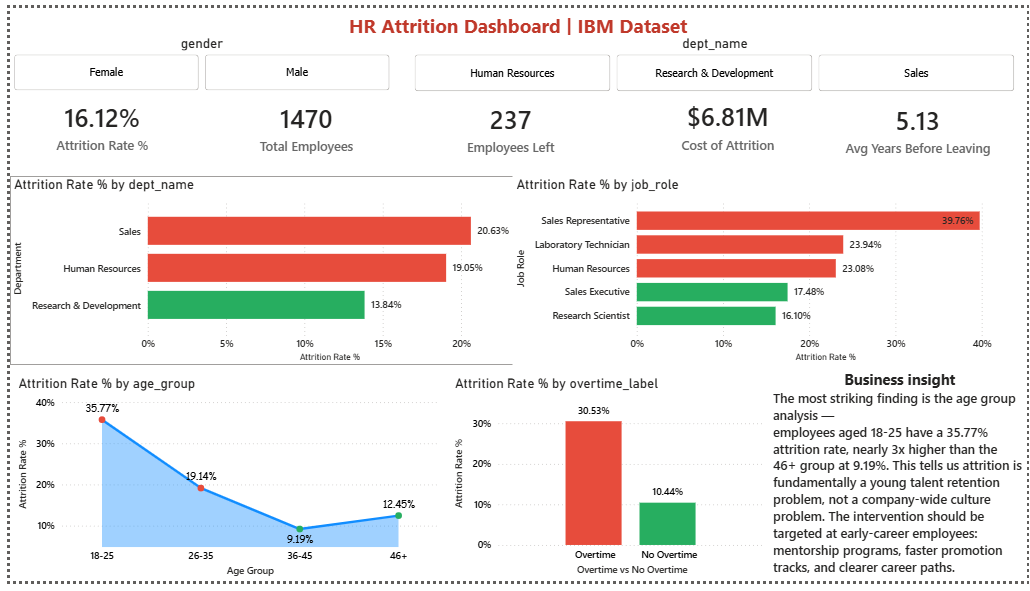

Layout of this report page (visuals, bound fields, positions):
{"tool":"powerbi","page":{"name":"Executive Overview","canvas":[1280,720],"ordinal":0},"visuals":[{"type":"textbox","box":[9.7,0,1259.8,50],"z":0},{"type":"card","fields":{"Values":["_Measures.Attrition Rate %"]},"box":[4.9,106.9,220.2,81],"z":1000},{"type":"card","fields":{"Values":["_Measures.Total Employees"]},"box":[262.3,110.1,220.2,79.3],"z":2000},{"type":"card","fields":{"Values":["_Measures.Employees Left"]},"box":[519.2,111.5,221.2,78.8],"z":3000},{"type":"card","fields":{"Values":["_Measures.Cost of Attrition"]},"box":[791.8,108.5,220.2,79.3],"z":4000},{"type":"card","fields":{"Values":["_Measures.Avg Tenure at Exit"]},"box":[1032.7,111.5,219.2,80.8],"z":5000},{"type":"clusteredBarChart","fields":{"Category":["dim_department.dept_name"],"Y":["_Measures.Attrition Rate %"]},"box":[0,210.5,647.7,238],"z":6000},{"type":"clusteredBarChart","fields":{"Y":["_Measures.Attrition Rate %"],"Category":["employees.job_role"]},"box":[631.5,210.5,647.7,238],"z":7000},{"type":"areaChart","fields":{"Category":["employees.age_group"],"Y":["_Measures.Attrition Rate %"]},"box":[4.9,463.1,537.6,257.5],"z":8000},{"type":"columnChart","fields":{"Category":["employees.overtime_label"],"Y":["_Measures.Attrition Rate %"]},"box":[555.4,463.1,399.9,255.8],"z":9000},{"type":"textbox","box":[955.3,448.5,323.8,272],"z":10000},{"type":"advancedSlicerVisual","fields":{"Values":["employees.gender"]},"box":[0,34,482.5,74.5],"z":11000},{"type":"advancedSlicerVisual","fields":{"Values":["dim_department.dept_name"]},"box":[503.6,34,765.9,76.1],"z":12000}]}

Visuals, with their boxes in screenshot pixels (x1, y1, x2, y2), scaled from the page's 1280x720 canvas onto the 1030x591 screenshot:
textbox: <region>8, 0, 1022, 41</region>
card - _Measures.Attrition Rate %: <region>4, 88, 181, 154</region>
card - _Measures.Total Employees: <region>211, 90, 388, 155</region>
card - _Measures.Employees Left: <region>418, 92, 596, 156</region>
card - _Measures.Cost of Attrition: <region>637, 89, 814, 154</region>
card - _Measures.Avg Tenure at Exit: <region>831, 92, 1007, 158</region>
clusteredBarChart - dim_department.dept_name x _Measures.Attrition Rate %: <region>0, 173, 521, 368</region>
clusteredBarChart - _Measures.Attrition Rate % x employees.job_role: <region>508, 173, 1029, 368</region>
areaChart - employees.age_group x _Measures.Attrition Rate %: <region>4, 380, 437, 590</region>
columnChart - employees.overtime_label x _Measures.Attrition Rate %: <region>447, 380, 769, 590</region>
textbox: <region>769, 368, 1029, 590</region>
advancedSlicerVisual - employees.gender: <region>0, 28, 388, 89</region>
advancedSlicerVisual - dim_department.dept_name: <region>405, 28, 1022, 90</region>
